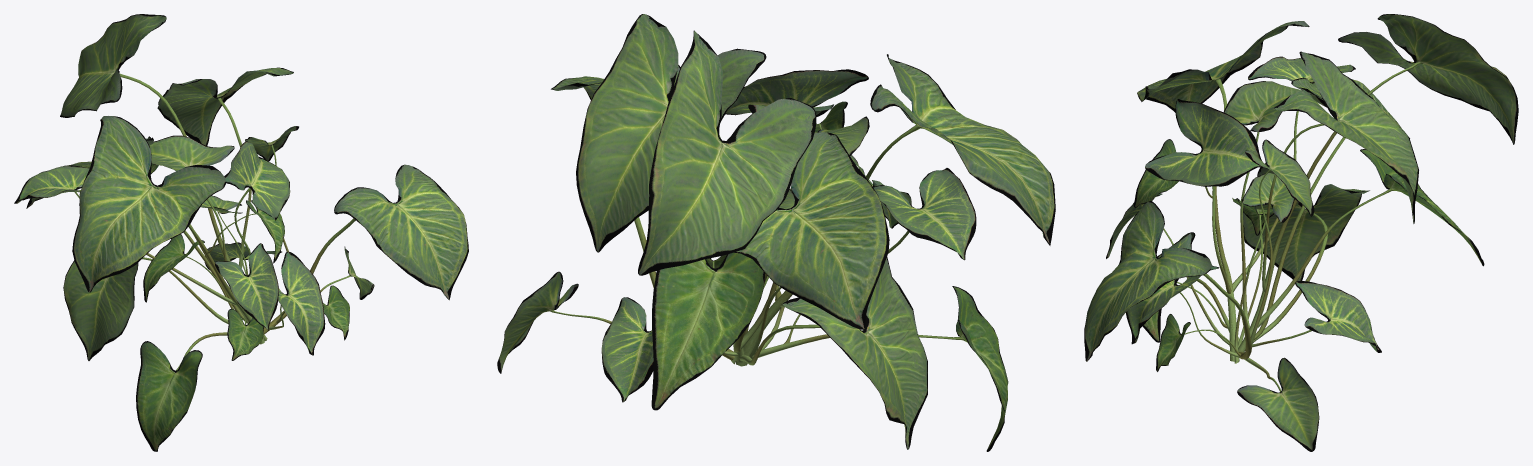
File: foliage.gltf
The picture shows the model from 3 angles, left to right: view 1: azimuth 30°, elevation 25°; view 2: azimuth 150°, elevation 25°; view 3: azimuth 270°, elevation 25°; orthographic projection. The views are drawn at different scales.
Visible parts, largest first — view 1: potted_plant_02_leaves; view 2: potted_plant_02_leaves; view 3: potted_plant_02_leaves.
Part boxes in pixels (x1=…): potted_plant_02_leaves: x1=14, y1=14, x2=468, y2=451; potted_plant_02_leaves: x1=497, y1=14, x2=1055, y2=451; potted_plant_02_leaves: x1=1084, y1=14, x2=1518, y2=451.
Bounding box in the file's own units: 0.7012 × 0.6326 × 0.6432.
1 material, 1 textured.
